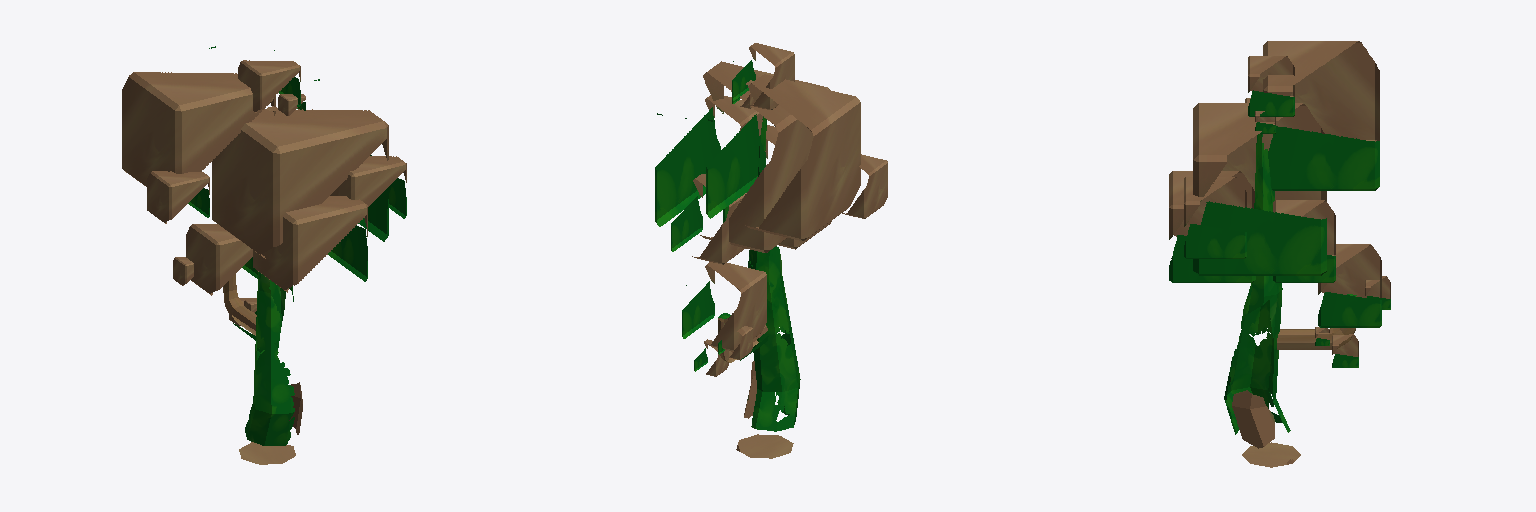
3 views of the same model, side by side, from view 1: azimuth 30°, elevation 25°; view 2: azimuth 150°, elevation 25°; view 3: azimuth 270°, elevation 25° (orthographic).
Visible parts, largest first — view 1: pCube19; view 2: pCube19; view 3: pCube19.
Boxes of the visible parts, box(x1,y1,x2,y2) form: pCube19: box(122, 46, 406, 464); pCube19: box(655, 43, 887, 458); pCube19: box(1169, 41, 1390, 467).
Size of the model in its own units: 0.1035 by 0.1865 by 0.096.
1 materials, 1 textured.